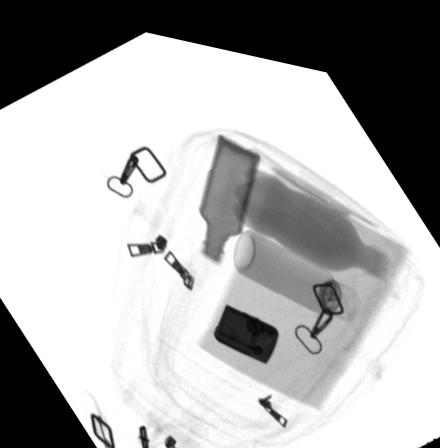Lighter: (214, 293, 280, 353)
Sprayer: (233, 218, 359, 307)
